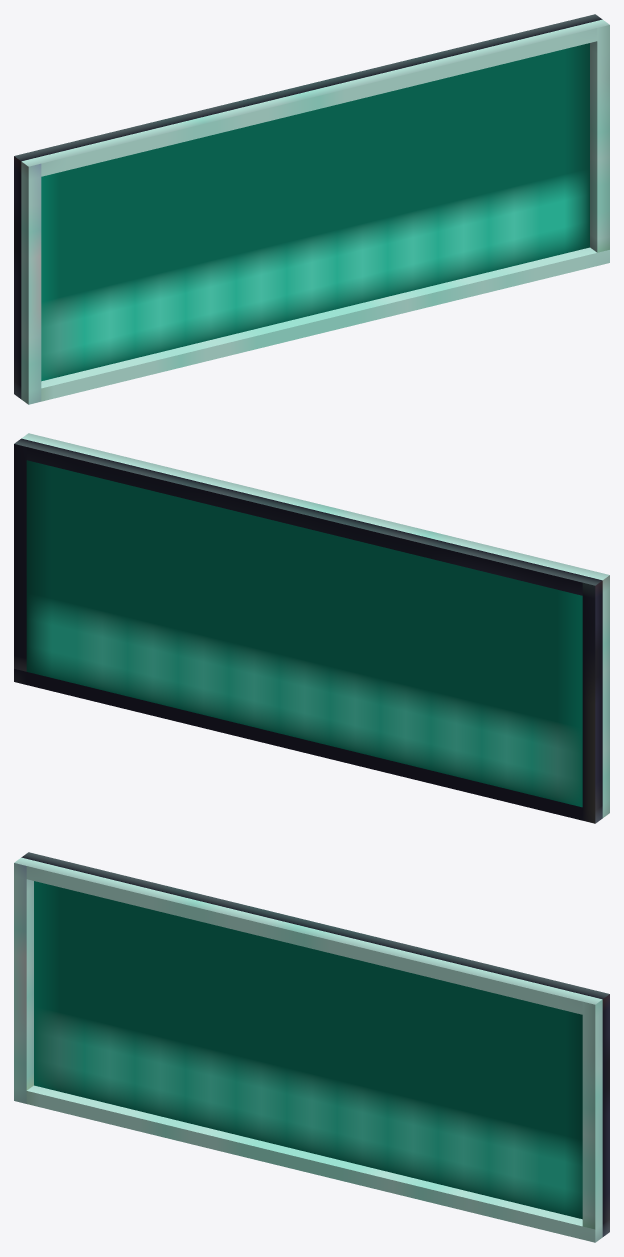
File: BillboardModule_Backplate_A_00.fbx
3 views of the same model, one above another, from view 1: azimuth 30°, elevation 25°; view 2: azimuth 150°, elevation 25°; view 3: azimuth 330°, elevation 25° (orthographic).
Visible parts, largest first — view 1: BillboardModule_Backplate_A_00; view 2: BillboardModule_Backplate_A_00; view 3: BillboardModule_Backplate_A_00.
Part boxes in pixels (left/top/right/bottom): BillboardModule_Backplate_A_00: left=14, top=14, right=609, bottom=404; BillboardModule_Backplate_A_00: left=14, top=433, right=609, bottom=823; BillboardModule_Backplate_A_00: left=14, top=852, right=609, bottom=1242.
Bounding box in the file's own units: 230 × 90 × 10.
